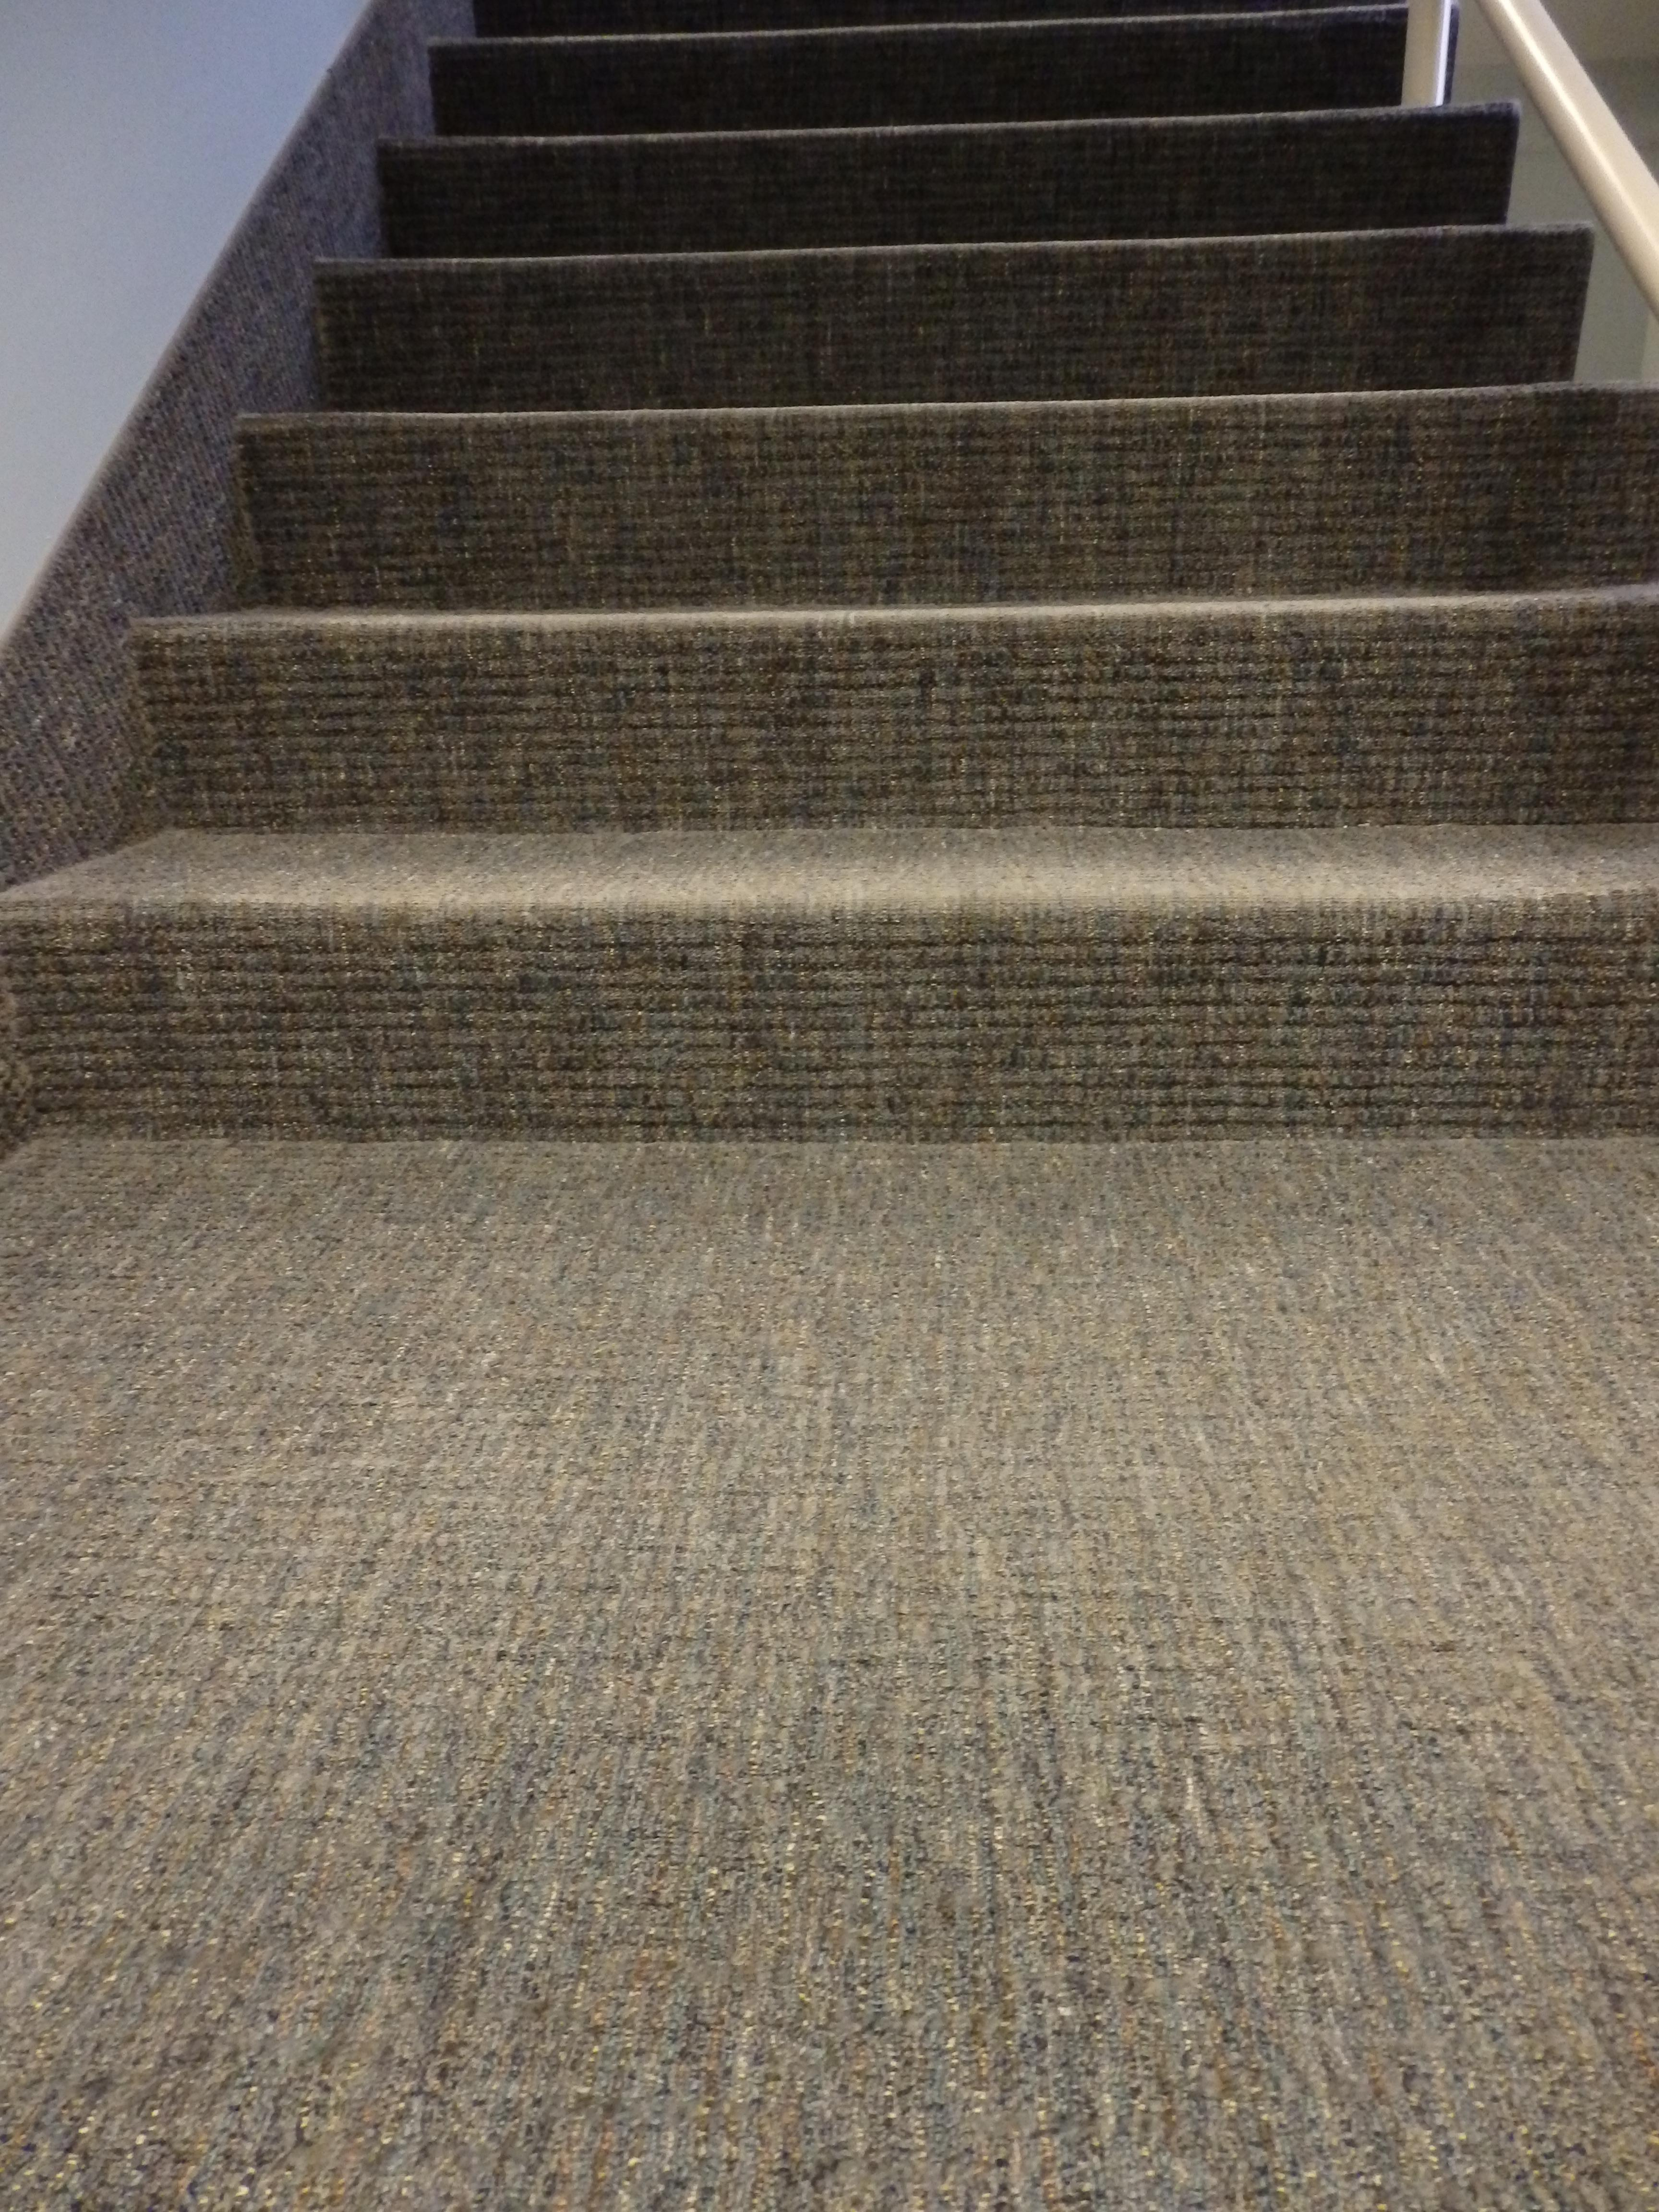stairs_up: (0, 42, 1591, 1141)
